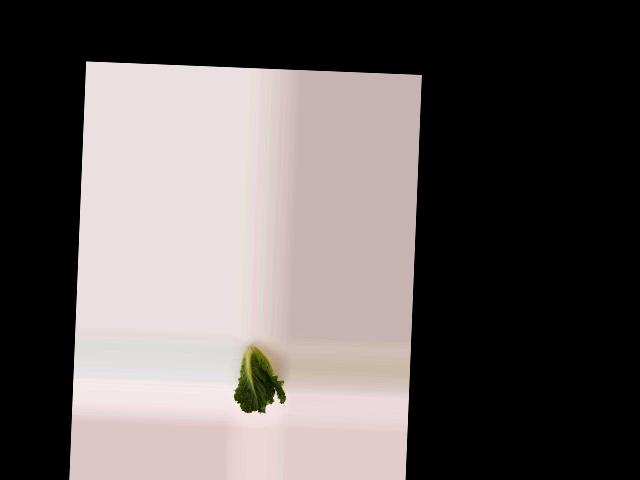lettuce: (231, 338, 285, 416)
